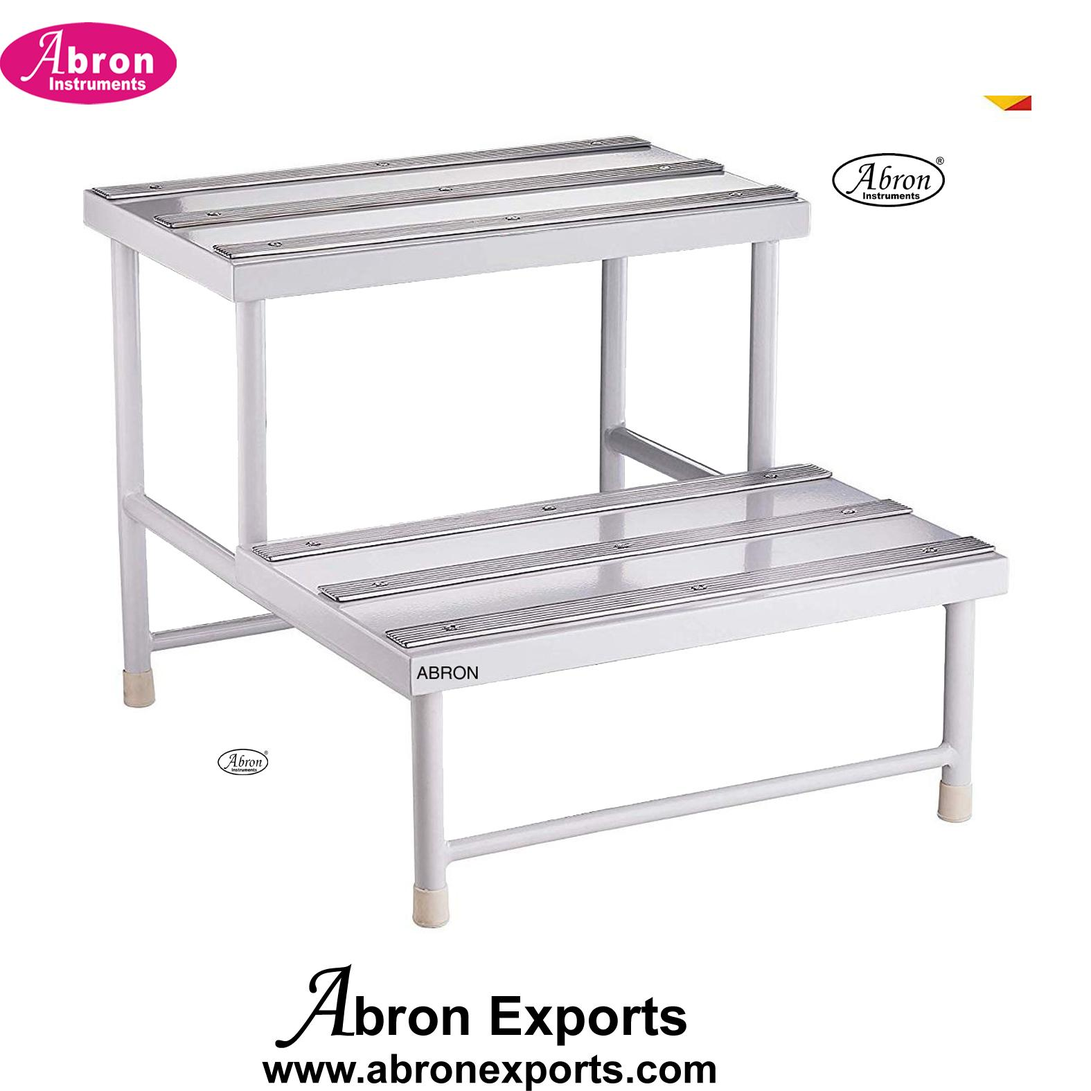stool: (63, 112, 1009, 929)
